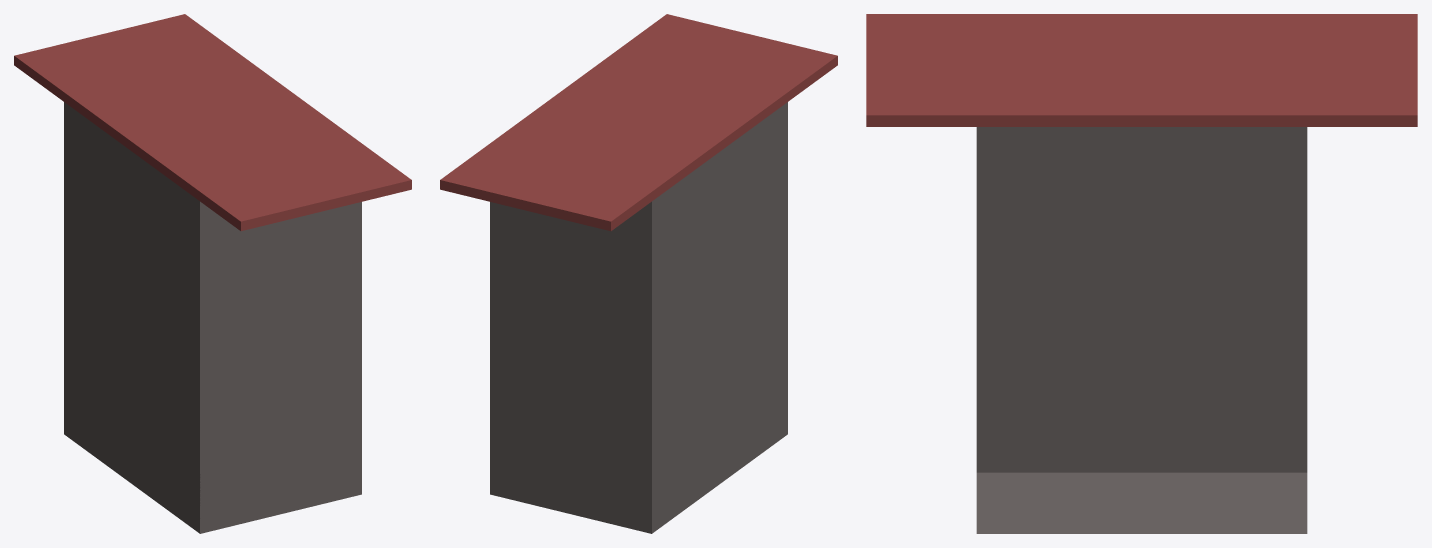
File: Desk.fbx
3 views of the same model, side by side, from view 1: azimuth 30°, elevation 25°; view 2: azimuth 150°, elevation 25°; view 3: azimuth 270°, elevation 25° (orthographic). The views are drawn at different scales.
Parts seen in each view (by area): view 1: 立方体; view 2: 立方体; view 3: 立方体.
Part boxes in pixels (<box>): 立方体: <box>14,14,411,533</box>; 立方体: <box>440,14,837,533</box>; 立方体: <box>866,14,1417,533</box>.
Bounding box in the file's own units: 296 × 574 × 680.
